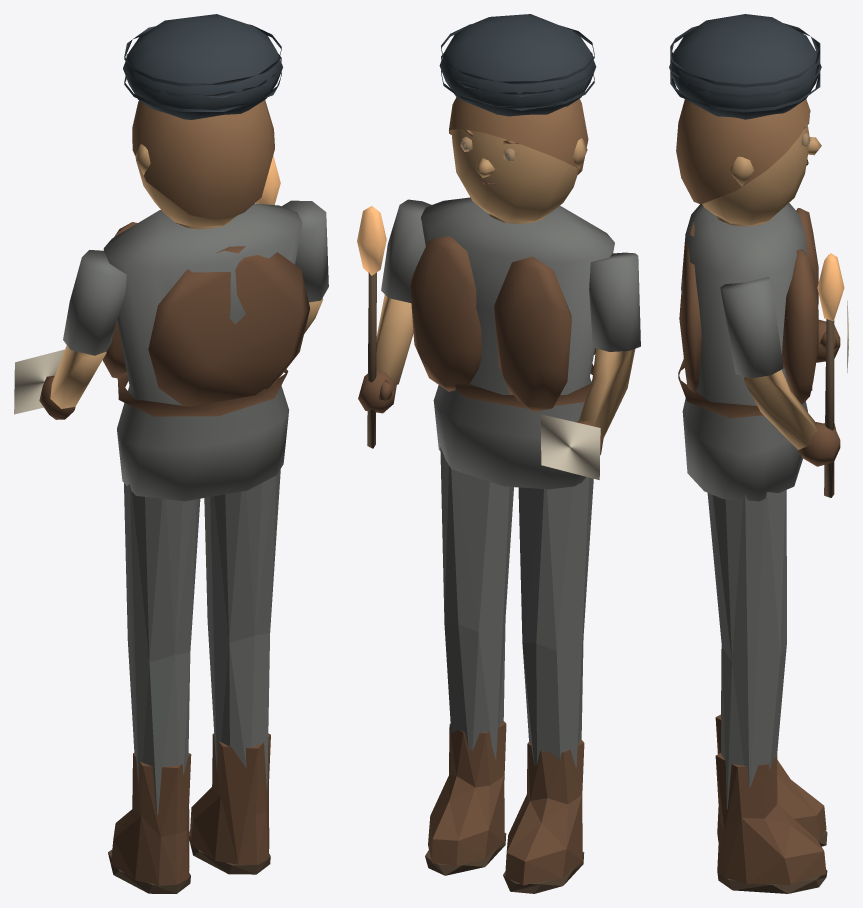
The model's file is SM_NPC_CENIZA_MEDIA.glb.
The picture shows the model from 3 angles, left to right: view 1: azimuth 30°, elevation 25°; view 2: azimuth 150°, elevation 25°; view 3: azimuth 270°, elevation 25°; orthographic projection. The views are drawn at different scales.
Parts seen in each view (by area): view 1: SM_NPC_CENIZA_BODY, SM_NPC_CENIZA_HEAD, SM_NPC_CENIZA_ARM_L, SM_NPC_CENIZA_ARM_R; view 2: SM_NPC_CENIZA_BODY, SM_NPC_CENIZA_HEAD, SM_NPC_CENIZA_ARM_L, SM_NPC_CENIZA_ARM_R; view 3: SM_NPC_CENIZA_BODY, SM_NPC_CENIZA_HEAD, SM_NPC_CENIZA_ARM_R, SM_NPC_CENIZA_ARM_L.
Part boxes in pixels (box(x1,y1,x2,y2)): SM_NPC_CENIZA_BODY: box(102, 203, 309, 893); SM_NPC_CENIZA_HEAD: box(123, 14, 282, 227); SM_NPC_CENIZA_ARM_L: box(14, 250, 126, 419); SM_NPC_CENIZA_ARM_R: box(256, 156, 328, 333); SM_NPC_CENIZA_BODY: box(410, 197, 614, 893); SM_NPC_CENIZA_HEAD: box(439, 14, 596, 222); SM_NPC_CENIZA_ARM_L: box(540, 252, 640, 479); SM_NPC_CENIZA_ARM_R: box(357, 199, 431, 448); SM_NPC_CENIZA_BODY: box(678, 203, 827, 893); SM_NPC_CENIZA_HEAD: box(669, 14, 821, 224); SM_NPC_CENIZA_ARM_R: box(720, 253, 844, 497); SM_NPC_CENIZA_ARM_L: box(816, 300, 848, 372).
Size of the model in its own units: 0.6146 by 1.88 by 0.3664.
